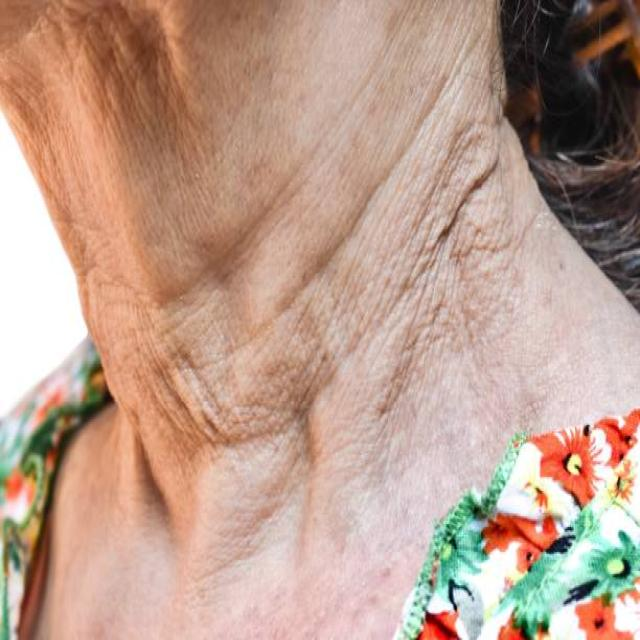Dry-Skin: (128, 45, 463, 468)
